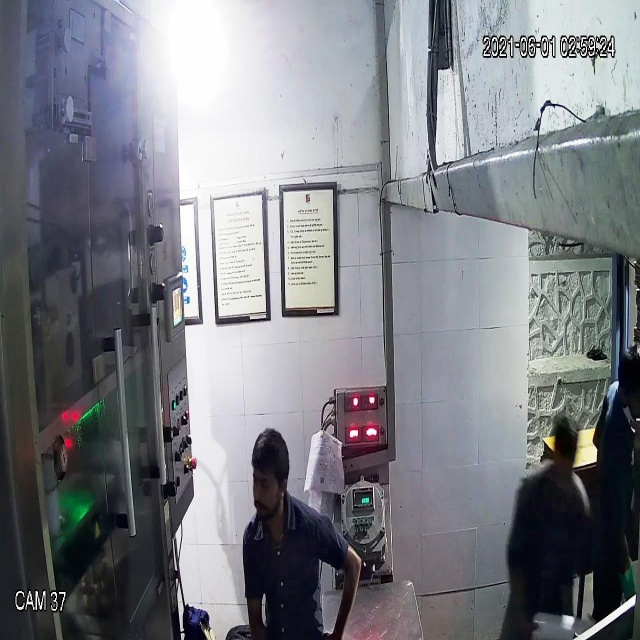Sin_gafas: (246, 468, 289, 503)
